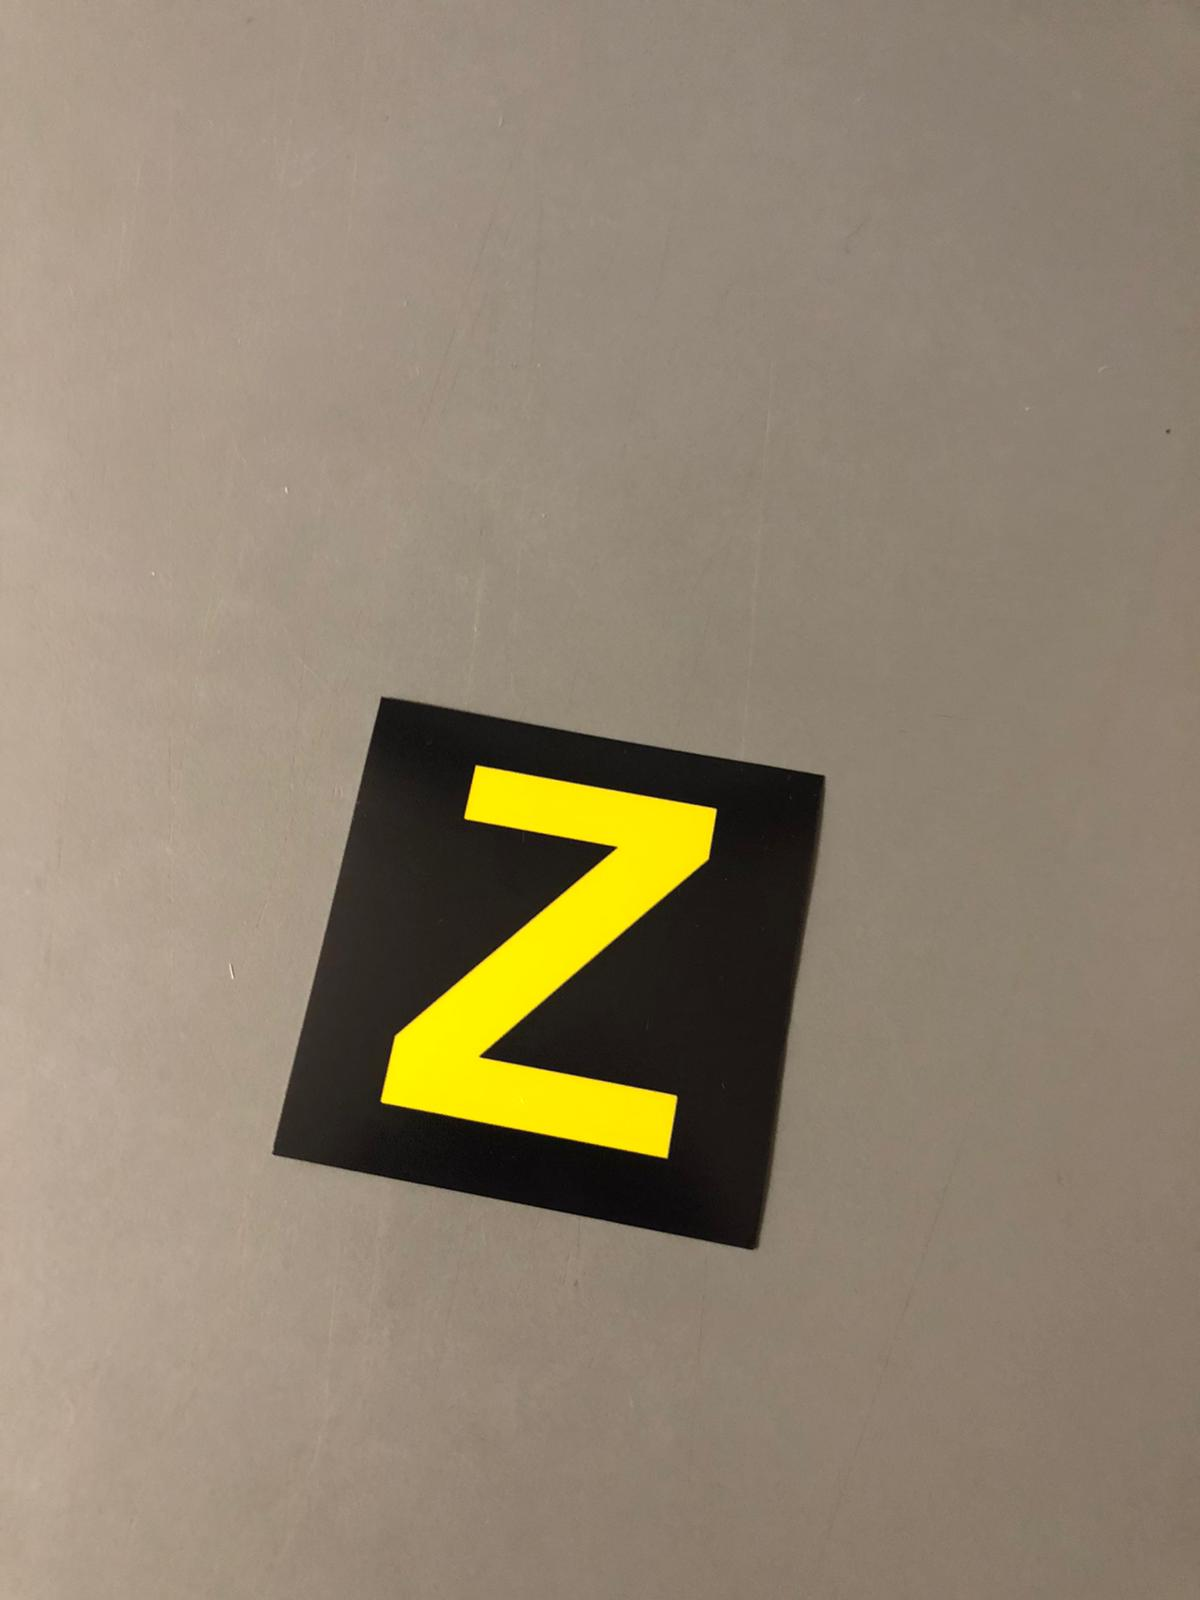Z: (383, 724, 765, 1201)
